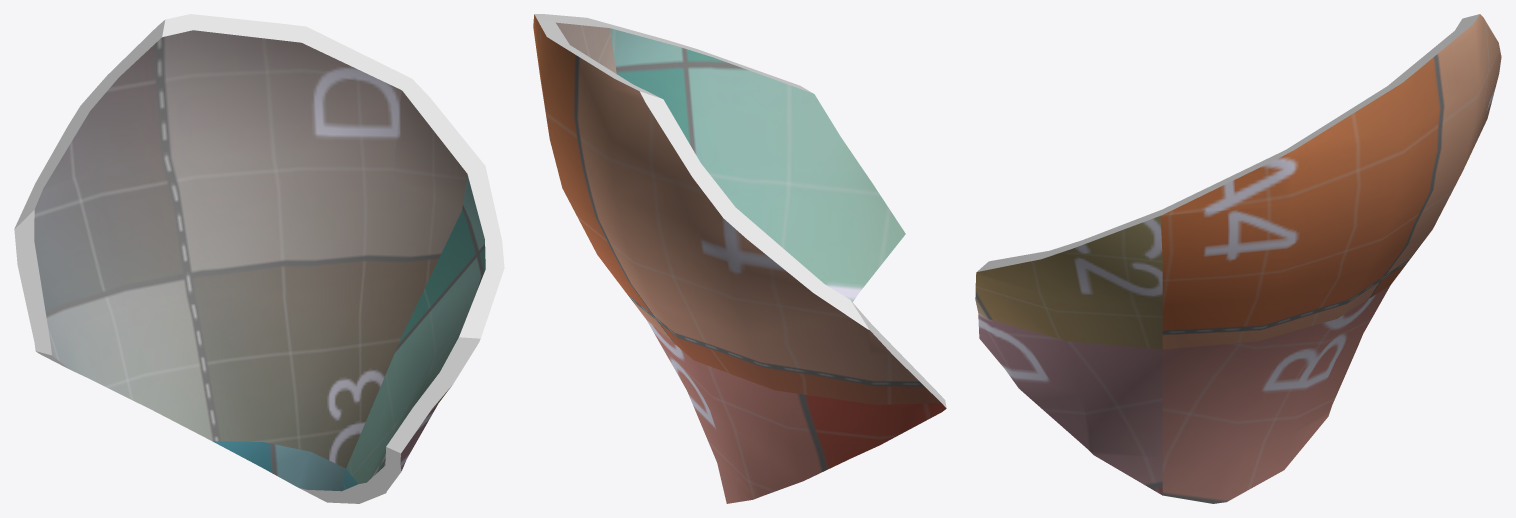
The model's file is LargeVase_SHAT_cell_012.fbx.
3 renders of one model, left to right at view 1: azimuth 30°, elevation 25°; view 2: azimuth 150°, elevation 25°; view 3: azimuth 270°, elevation 25°, orthographic. The views are drawn at different scales.
Visible parts, largest first — view 1: LargeVase_SHAT_cell_012; view 2: LargeVase_SHAT_cell_012; view 3: LargeVase_SHAT_cell_012.
Boxes of the visible parts, x1,y1,x2,y2 form: LargeVase_SHAT_cell_012: (14, 14, 504, 503); LargeVase_SHAT_cell_012: (533, 14, 946, 503); LargeVase_SHAT_cell_012: (975, 14, 1501, 503).
Size of the model in its own units: 1.19 by 1.27 by 1.29.
Materials: 2 (1 with a texture image).
